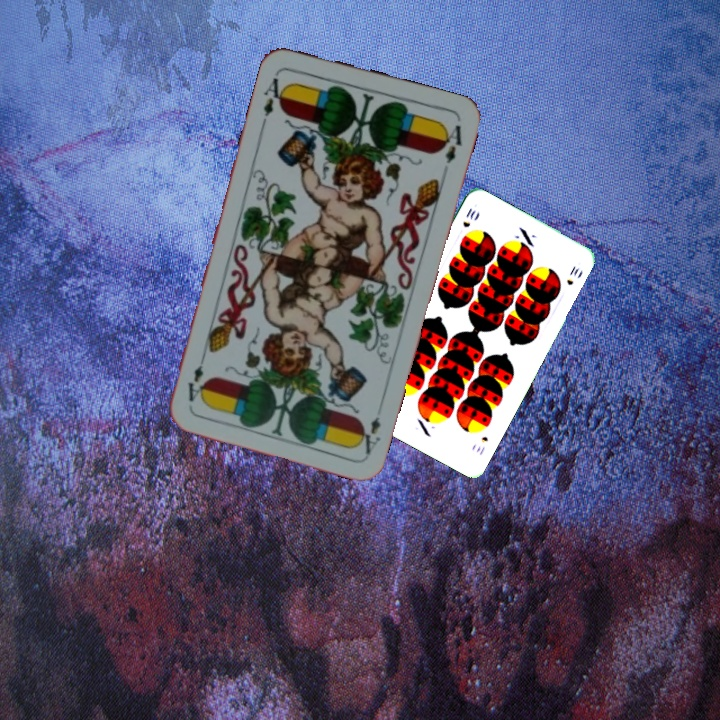EA: (259, 68, 290, 119), (353, 413, 384, 457)
S10: (459, 204, 478, 230), (472, 432, 491, 458)
